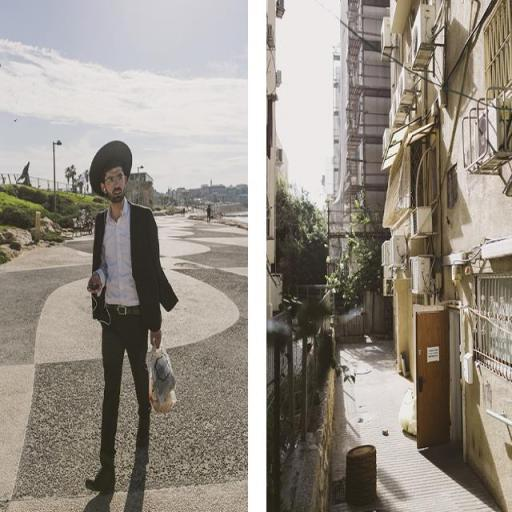person: (85, 138, 176, 499), (206, 204, 213, 225)
